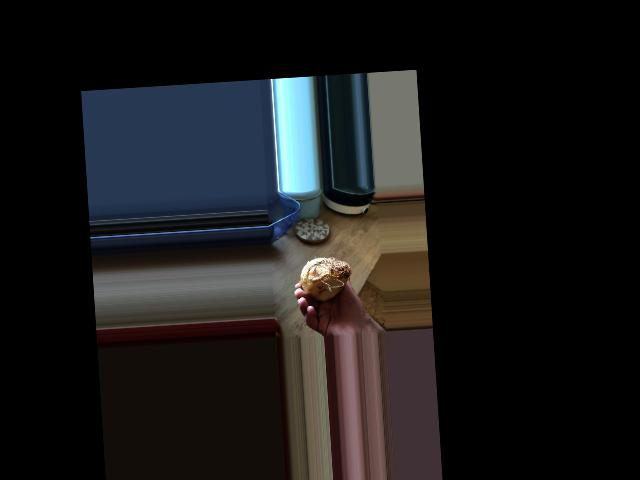onion: (297, 251, 349, 302)
